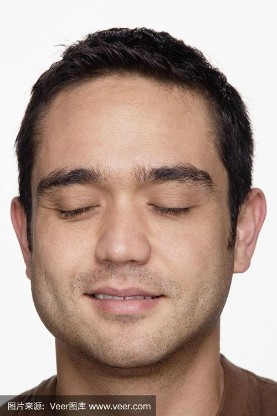闭眼: (135, 184, 211, 232), (38, 187, 108, 232)
